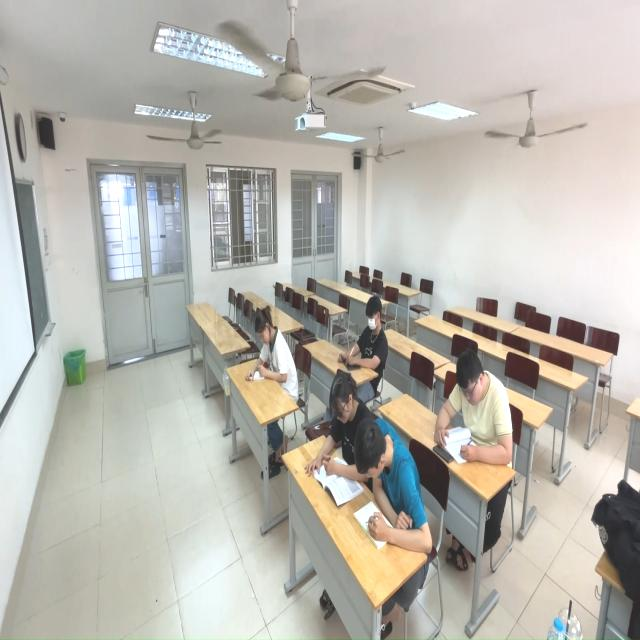read: (352, 412, 432, 554), (437, 346, 522, 472), (314, 370, 384, 493), (240, 301, 302, 402), (342, 295, 395, 374)
